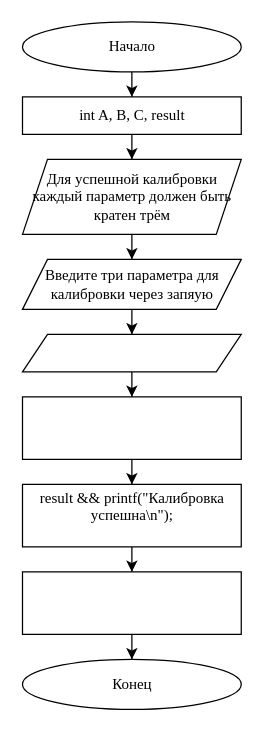
This 263x731 diagram has some shape labels left out. The box of each missing label's shape, as (x1, y1, x2, y2) in pixels:
!result && printf("Калибровка не удалсь\n");: (21, 571, 241, 634)
result = ((A % 3 == 0) && (B % 3 == 0) && (C % 3 == 0));: (21, 396, 241, 459)
Ввод A, B, C: (21, 333, 241, 372)
